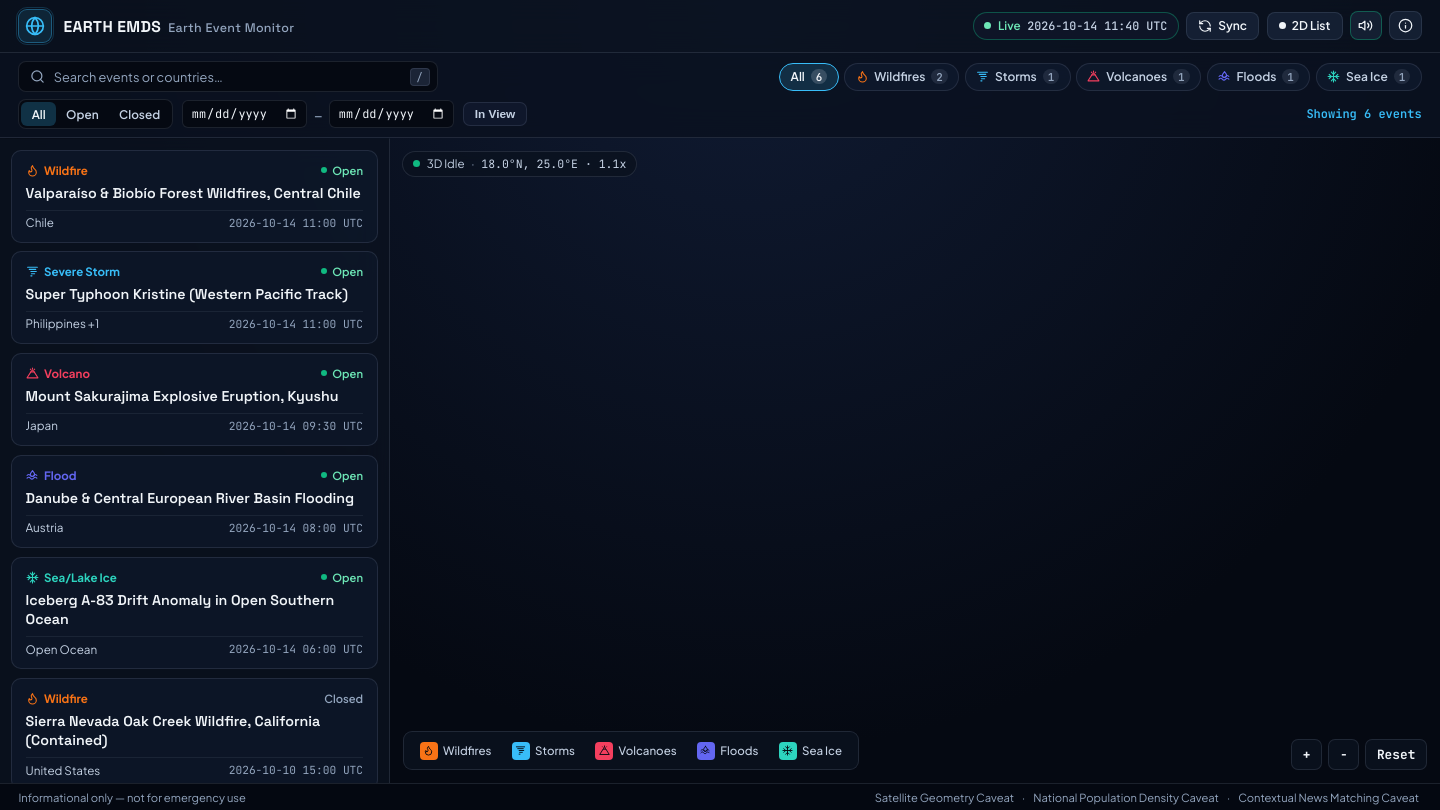
it: EARTH EMDS Frontend Application & Components › handles open-ocean events with zero country matches and null magnitude values gracefully
This screenshot has width=1440, height=810.
// Select Mount Sakurajima (null magnitude)
Click the option with test id "event-list-item-EONET_6403": [194, 400] box [11,353,378,446]
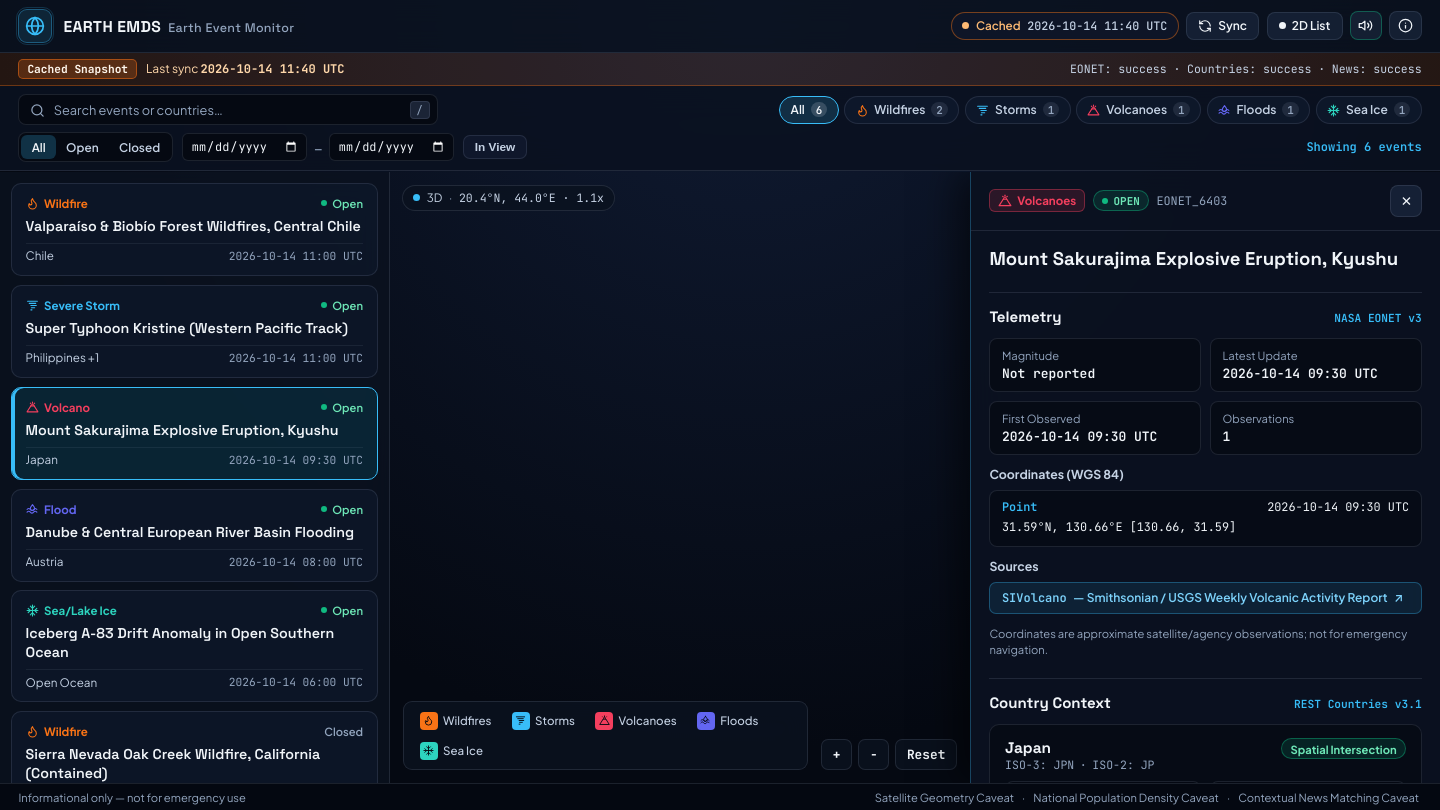
Result: the text with test id "drawer-magnitude-value" reads "Not reported" at [1002,365,1095,382]
// Select Open-Ocean Iceberg A-83 (zero country matches)
Click the option with test id "event-list-item-EONET_6405": [81, 610] box [11,590,378,702]
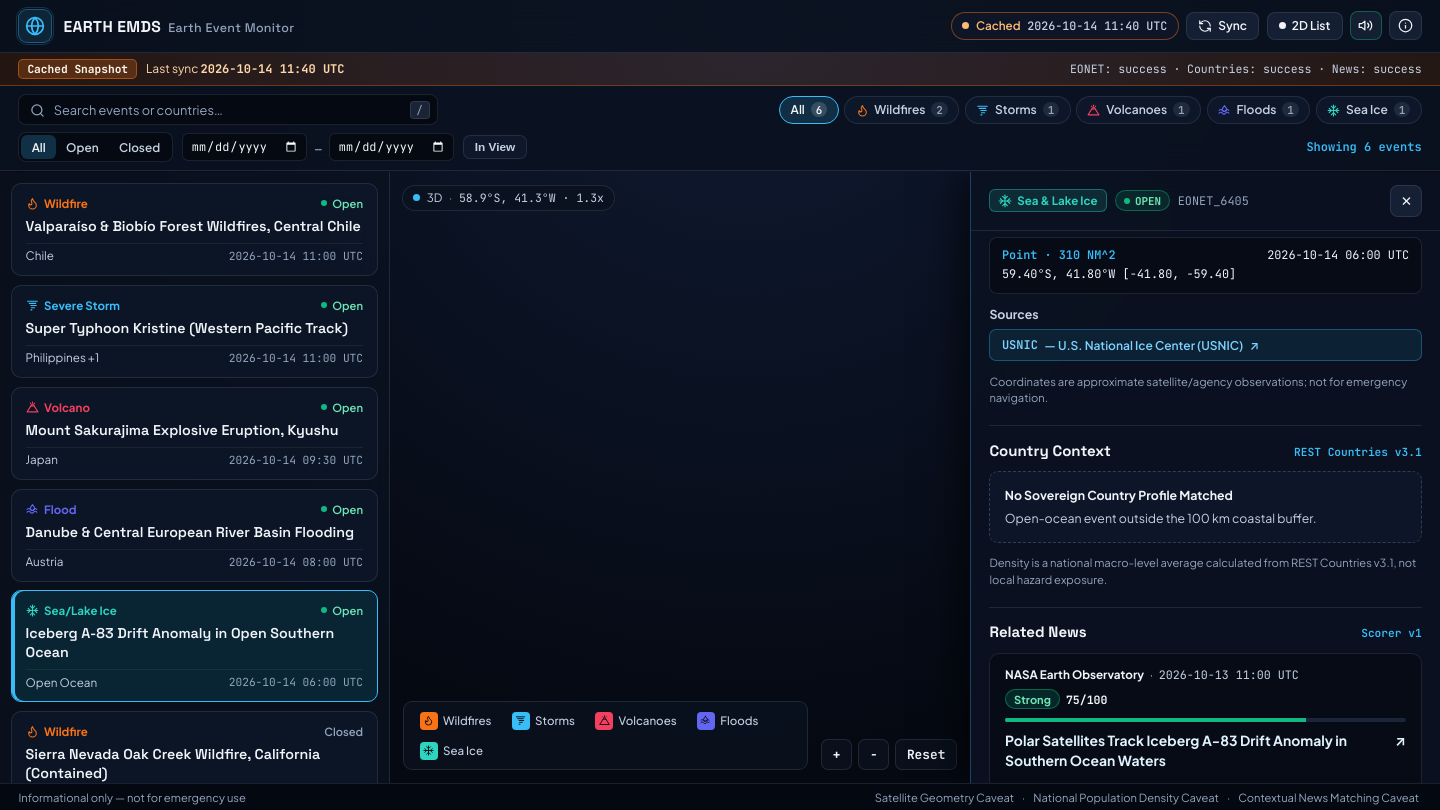
Result: the element with test id "no-country-matches-card" shows "No Sovereign Country Profile Matched" at [1005,487,1233,503]
